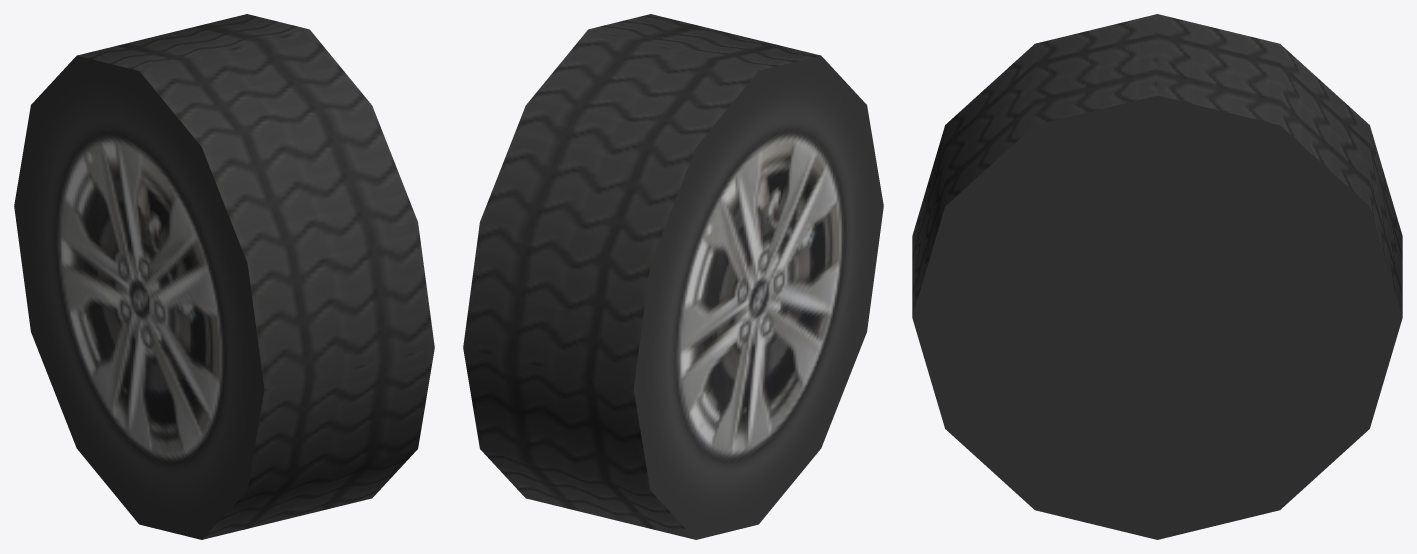
File: Wheel-R.fbx
3 renders of one model, left to right at view 1: azimuth 30°, elevation 25°; view 2: azimuth 150°, elevation 25°; view 3: azimuth 270°, elevation 25°, orthographic. The views are drawn at different scales.
Visible parts, largest first — view 1: FR; view 2: FR; view 3: FR.
Boxes of the visible parts, x1,y1,x2,y2 form: FR: [14, 14, 434, 539]; FR: [463, 14, 883, 539]; FR: [912, 14, 1402, 539].
Bounding box in the file's own units: 35.12 × 89.32 × 89.32.
